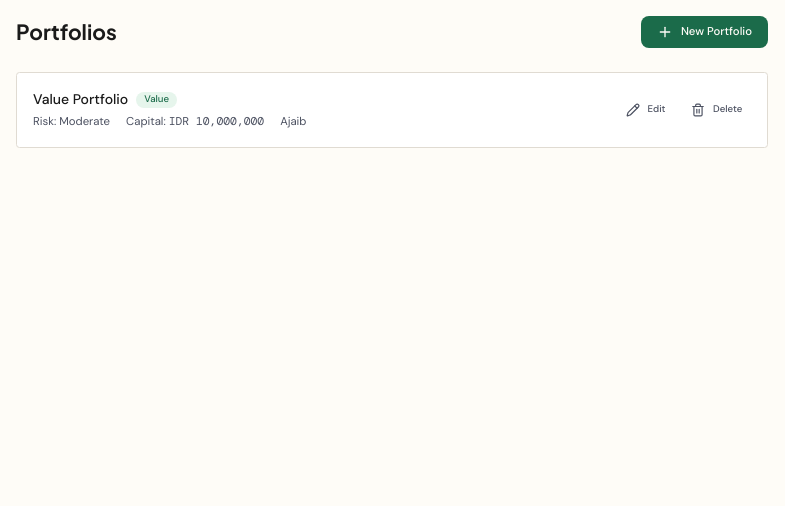
Scenario: PortfolioPage › State C: Portfolio list (portfolios exist) › navigates to detail view on portfolio card click
Check: the text "Value Portfolio" is shown, box [33, 89, 128, 110]
Step 1. Click the button "Value Portfolio" → (81,99), box [33, 89, 617, 131]
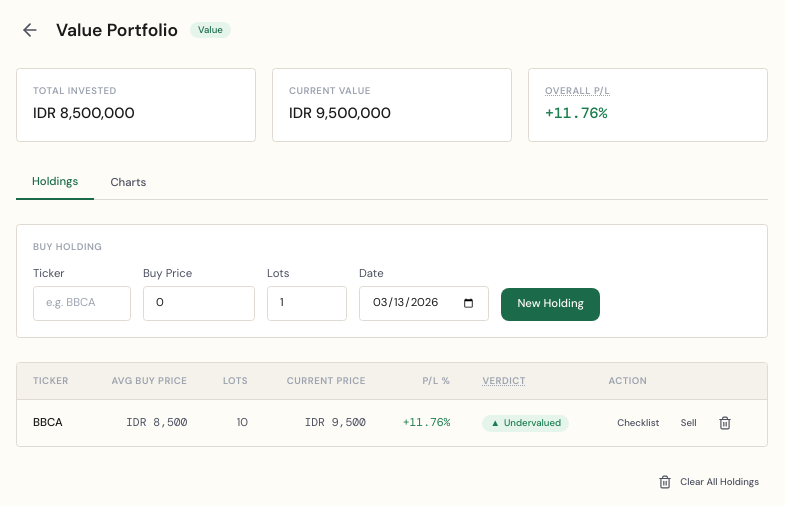
Check: the text "BBCA" is shown, box [17, 400, 89, 446]
Check: the table is shown, box [17, 362, 767, 446]
